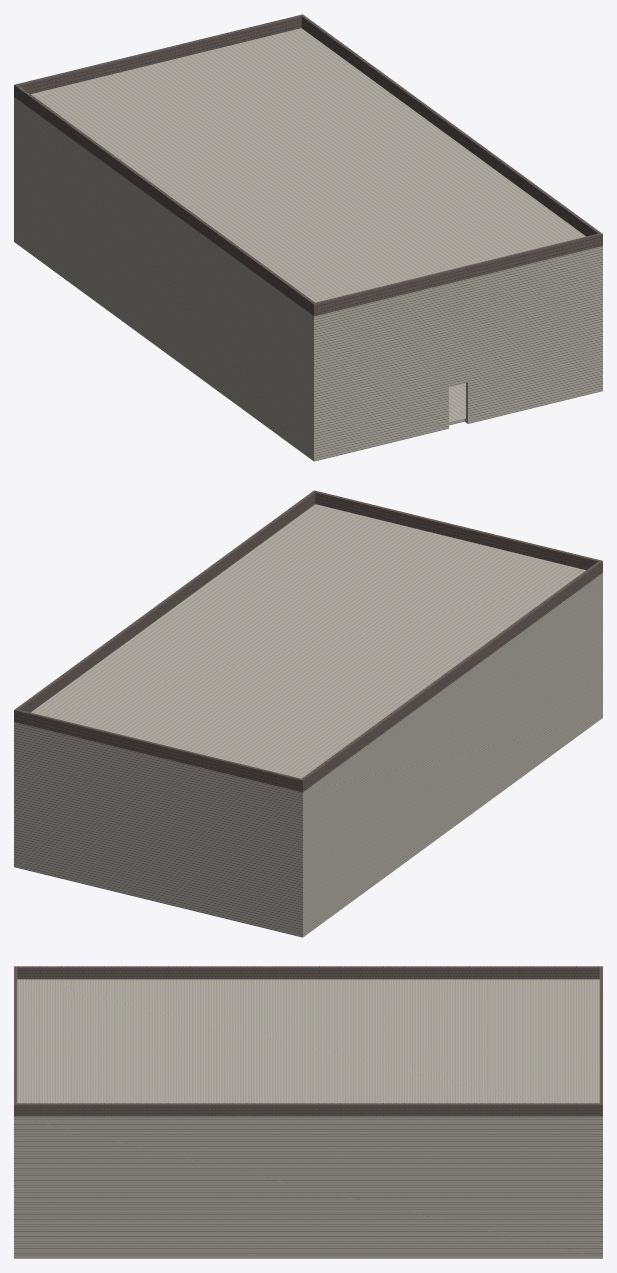
File: post_office.glb
3 views of the same model, one above another, from view 1: azimuth 30°, elevation 25°; view 2: azimuth 150°, elevation 25°; view 3: azimuth 270°, elevation 25° (orthographic).
Visible parts, largest first — view 1: post_office-col; view 2: post_office-col; view 3: post_office-col.
Part boxes in pixels (box(x1,y1,x2,y2)): post_office-col: box(14, 14, 602, 461); post_office-col: box(14, 490, 602, 937); post_office-col: box(14, 966, 602, 1258).
Bounding box in the file's own units: 15.24 × 7.92 × 27.43.
Materials: 2 (2 with a texture image).
